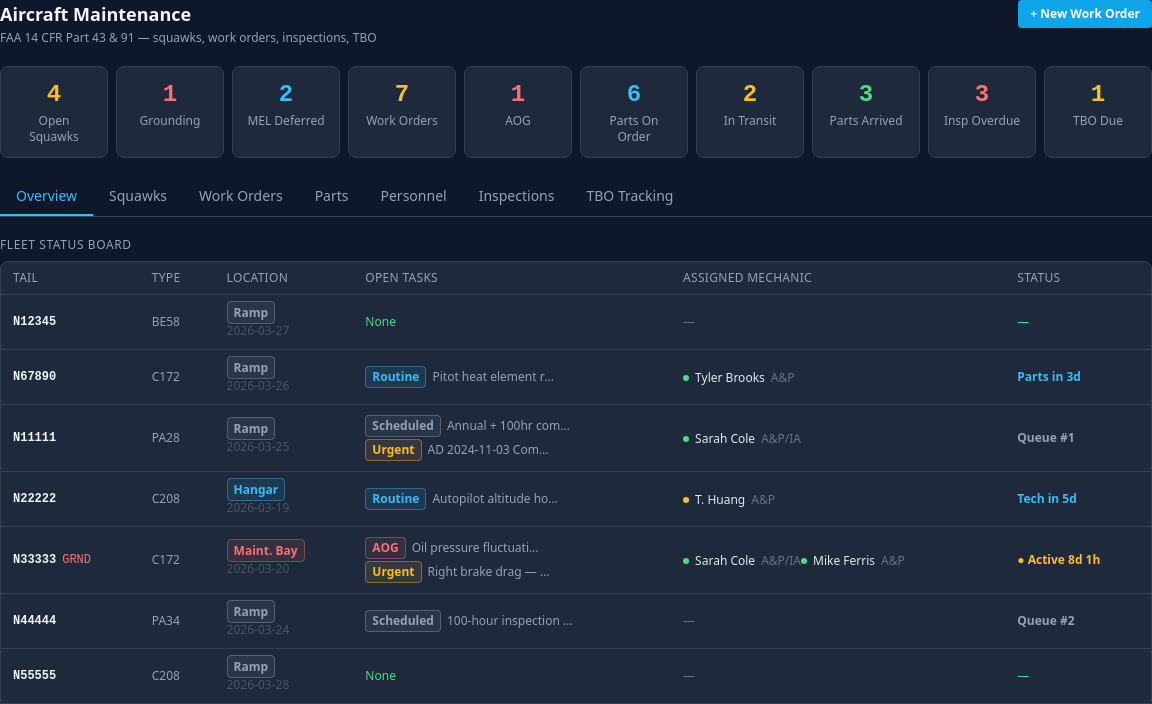
Test: <Maintenance /> Work Orders — parts + location + hold › expands parts list on click
This screenshot has width=1152, height=704.
What coordinates should you click on to do the following:
click the tab "Work Orders"
I would click on:
 (241, 197)
Its box is [183,178,299,216].
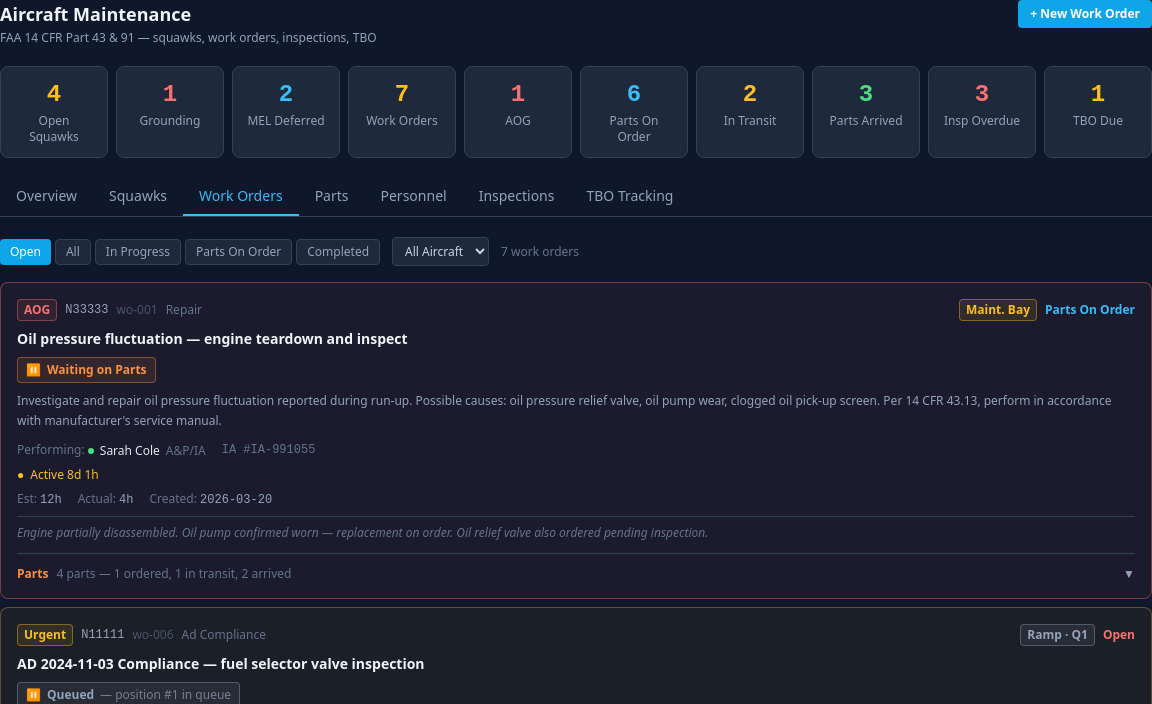
Click the first one (belongs to the highest-priority WO with parts)
What coordinates should you click on to do the following:
click the button "Parts 4 parts — 1 ordered, 1 in transit, 2 arrived ▼"
I would click on:
 (33, 574)
Its box is [17,566,1135,582].
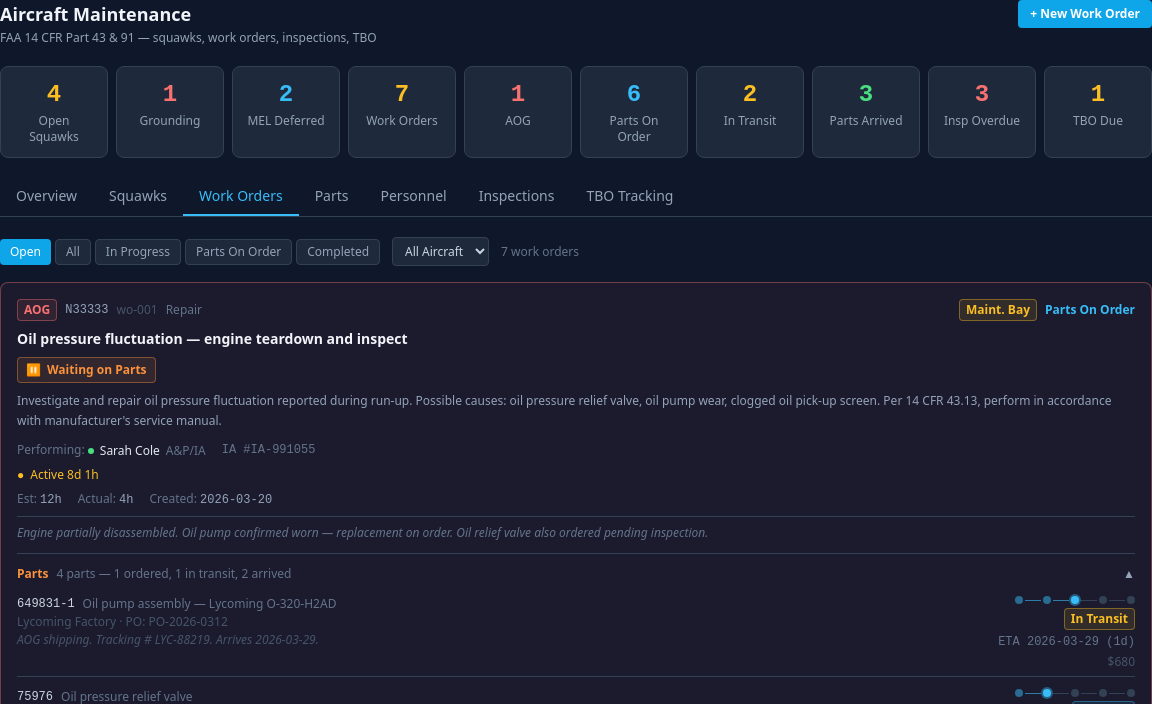
Result: the element with test id "part-row-" is shown at [17,590,1135,677]
